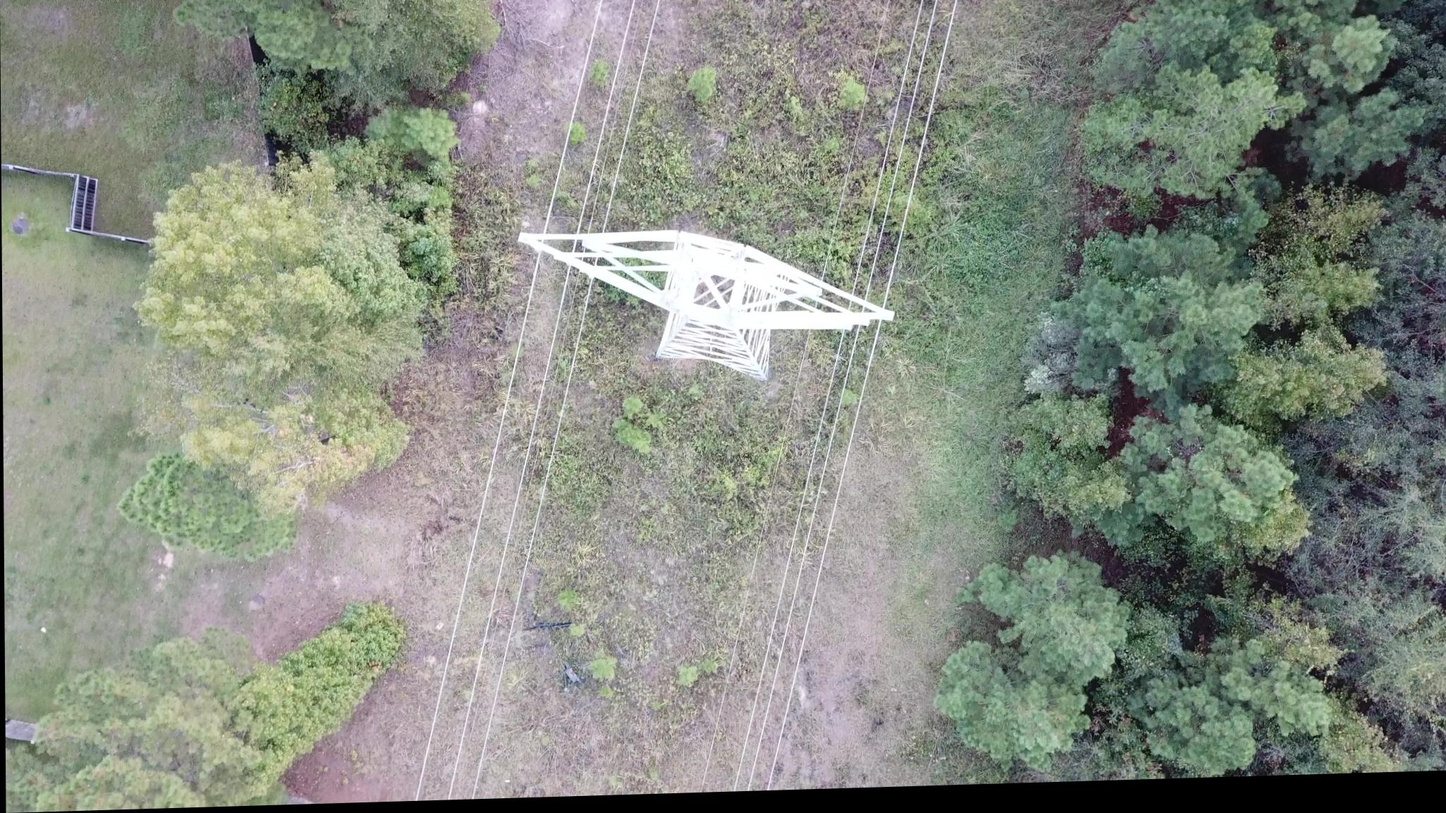tower: (515, 220, 895, 392)
